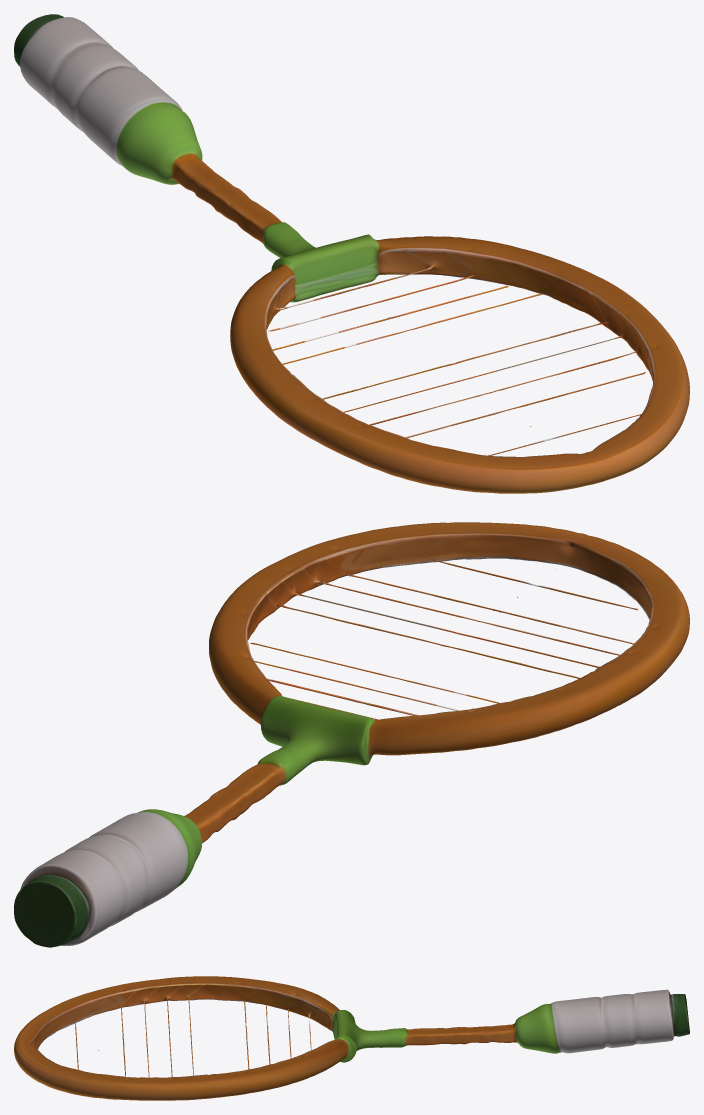
File: Badminton.fbx
3 views of the same model, one above another, from view 1: azimuth 30°, elevation 25°; view 2: azimuth 150°, elevation 25°; view 3: azimuth 270°, elevation 25° (orthographic). The views are drawn at different scales.
Parts seen in each view (by area): view 1: model.007; view 2: model.007; view 3: model.007.
Part boxes in pixels (x1,y1,x2,y2): model.007: (14,14,689,493); model.007: (14,522,689,947); model.007: (14,976,689,1100).
Size of the model in its own units: 30.43 by 7.51 by 76.72.
